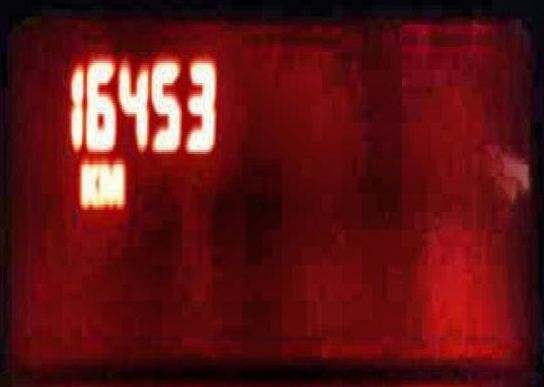1: (68, 61, 83, 152)
3: (183, 56, 217, 151)
4: (117, 56, 148, 151)
5: (148, 56, 180, 151)
6: (82, 56, 117, 151)
X: (97, 156, 126, 207), (78, 156, 98, 209)
